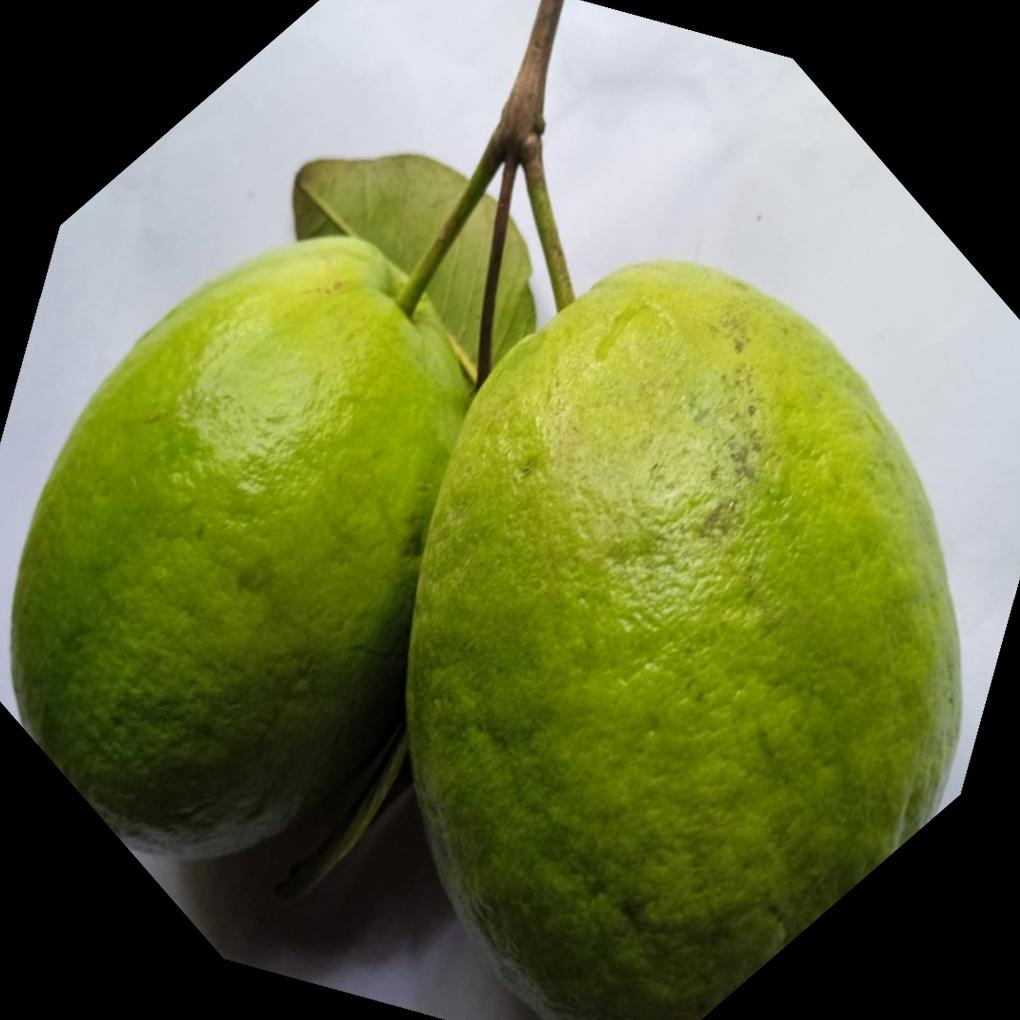FreshGuava: (8, 155, 966, 1020)
